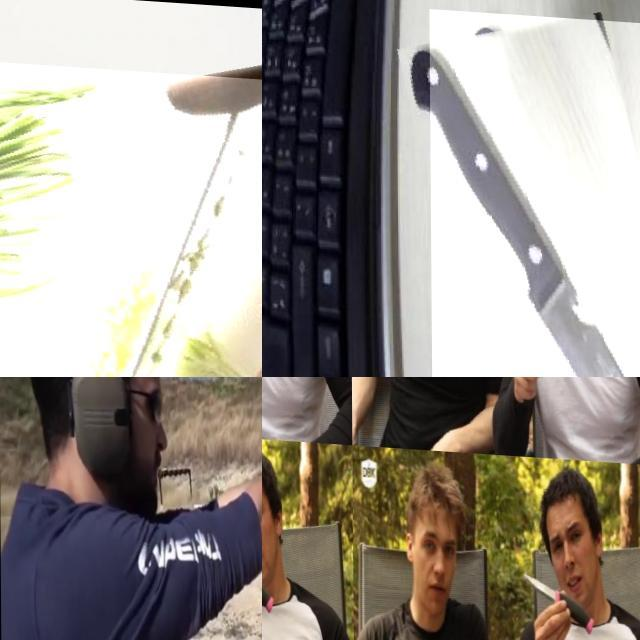-: (0, 55, 262, 377), (429, 6, 640, 377), (518, 562, 596, 636), (262, 543, 301, 617), (510, 377, 545, 444), (262, 377, 287, 446)
